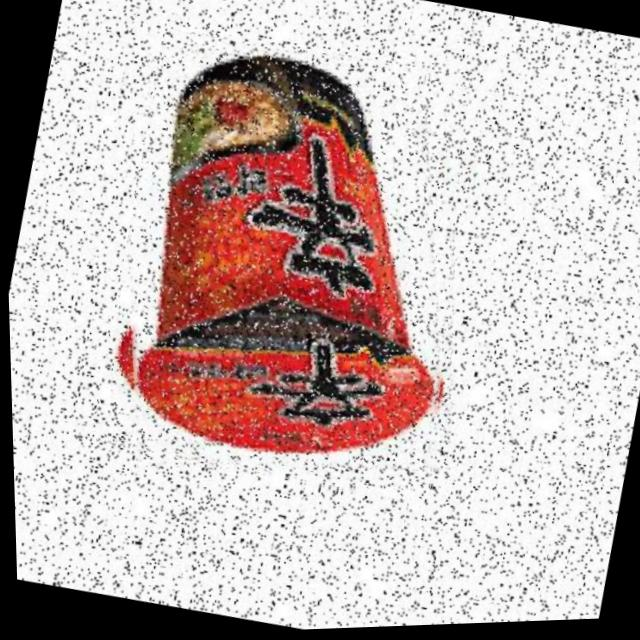Miscellaneous: (76, 14, 513, 518)
